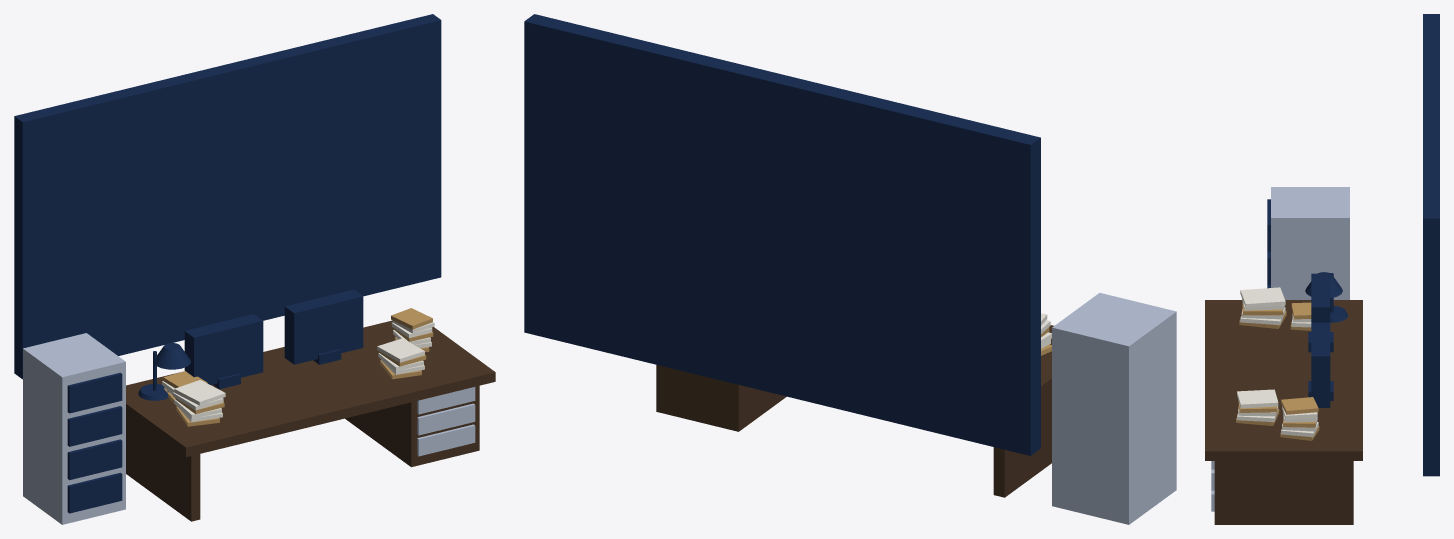
The model's file is workspace-legacy.glb.
The picture shows the model from 3 angles, left to right: view 1: azimuth 30°, elevation 25°; view 2: azimuth 150°, elevation 25°; view 3: azimuth 270°, elevation 25°; orthographic projection. The views are drawn at different scales.
Parts seen in each view (by area): view 1: LegacyWorkspace; view 2: LegacyWorkspace; view 3: LegacyWorkspace.
Boxes of the visible parts, <box> form: LegacyWorkspace: <box>14,14,495,524</box>; LegacyWorkspace: <box>524,14,1176,524</box>; LegacyWorkspace: <box>1205,14,1439,524</box>.
Size of the model in its own units: 5 by 3.55 by 2.23.
